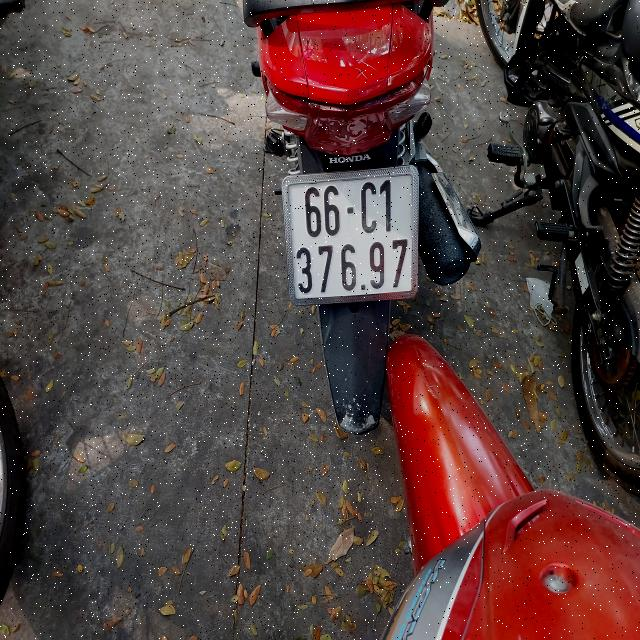1: (378, 179, 396, 231)
3: (295, 247, 316, 293)
6: (322, 184, 342, 237), (340, 243, 358, 294), (306, 187, 322, 241)
7: (389, 237, 408, 291), (317, 244, 336, 295)
9: (368, 240, 384, 292)
C: (358, 183, 379, 236)
